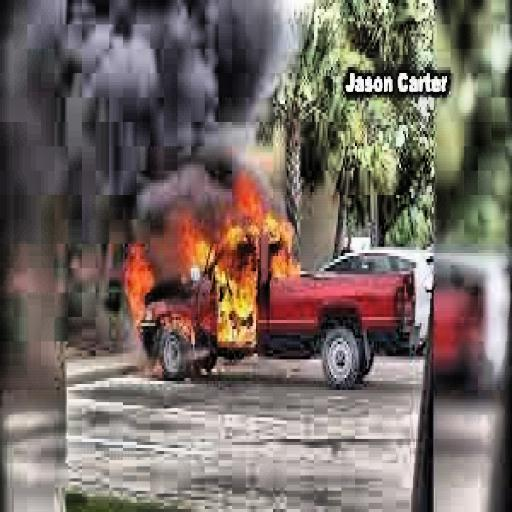fire: (111, 195, 302, 375)
